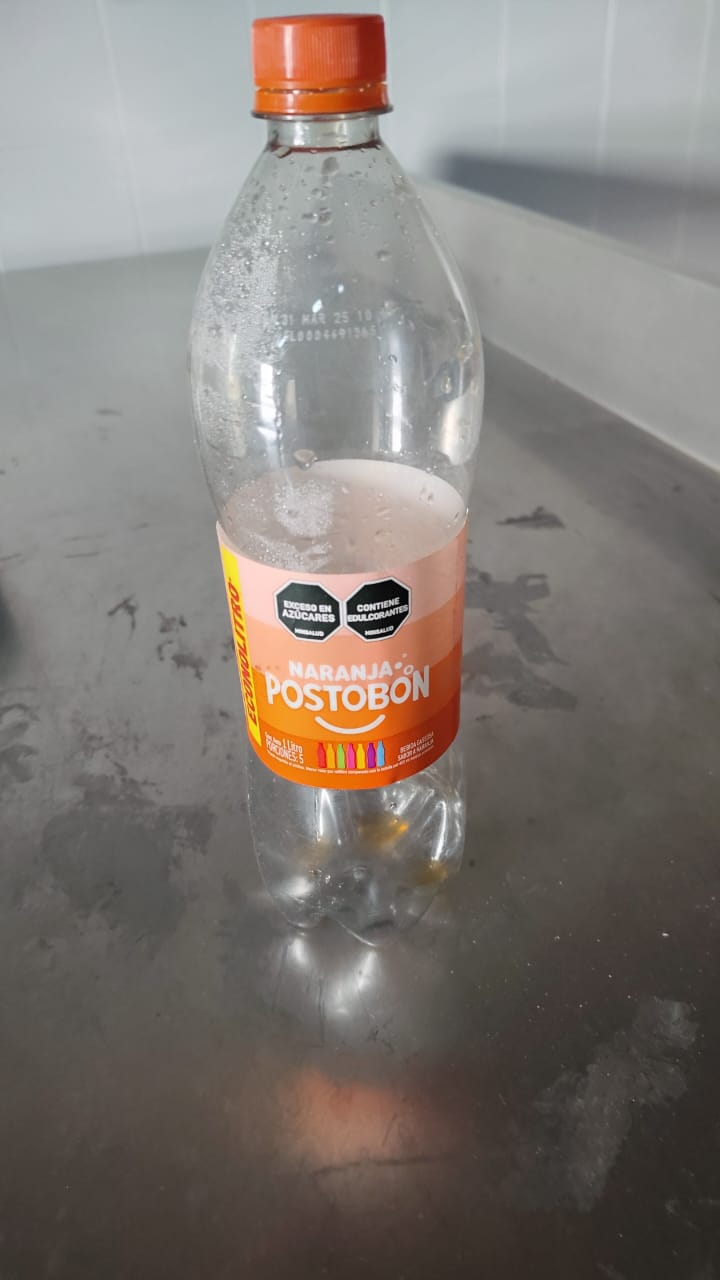Plastico: (186, 18, 486, 950)
